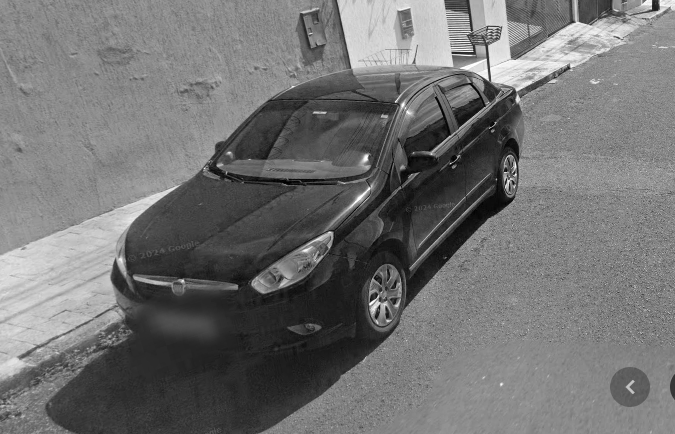car: (108, 41, 528, 348)
